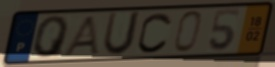0: (172, 9, 207, 55)
5: (209, 7, 243, 53)
A: (61, 14, 102, 57)
C: (136, 11, 175, 55)
Q: (32, 14, 71, 59)
U: (100, 10, 144, 58)
